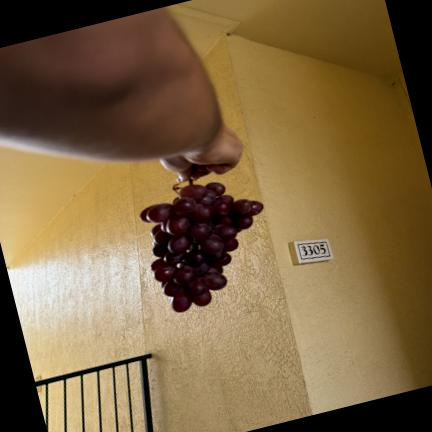grape_cluster: (139, 182, 263, 312)
